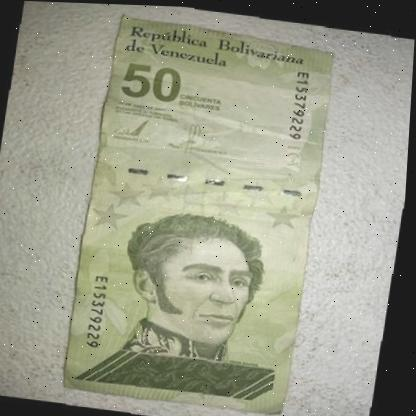fifty-front-vef: (63, 11, 342, 415)
